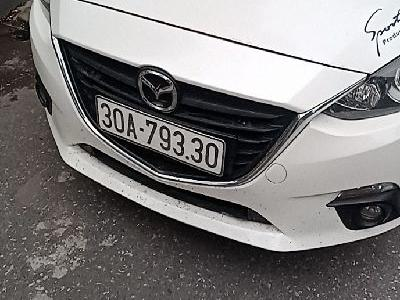lisence: (93, 93, 227, 180)
